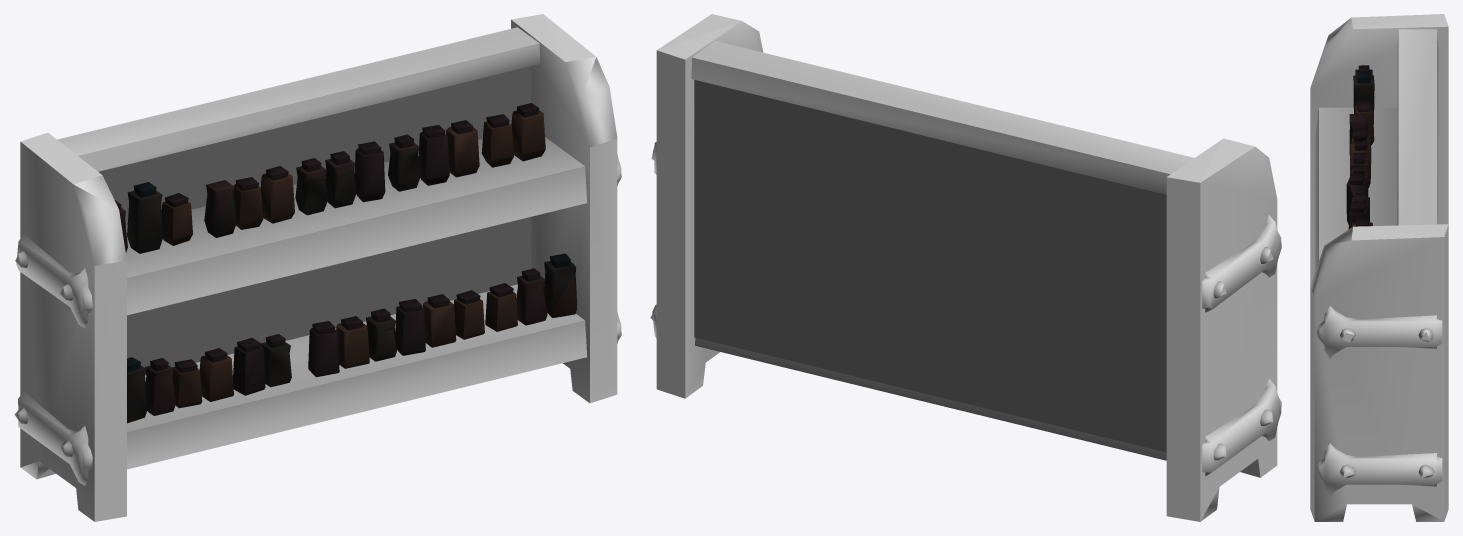
File: pq_etagere_fioles.glb
3 views of the same model, side by side, from view 1: azimuth 30°, elevation 25°; view 2: azimuth 150°, elevation 25°; view 3: azimuth 270°, elevation 25° (orthographic). The views are drawn at different scales.
Visible parts, largest first — view 1: Shelf_Small_Bottles; view 2: Shelf_Small_Bottles; view 3: Shelf_Small_Bottles.
Part boxes in pixels (x1,y1,x2,y2): Shelf_Small_Bottles: [14, 14, 621, 521]; Shelf_Small_Bottles: [650, 14, 1281, 521]; Shelf_Small_Bottles: [1310, 14, 1448, 521].
Bounding box in the file's own units: 0.9338 × 0.5309 × 0.2334.
